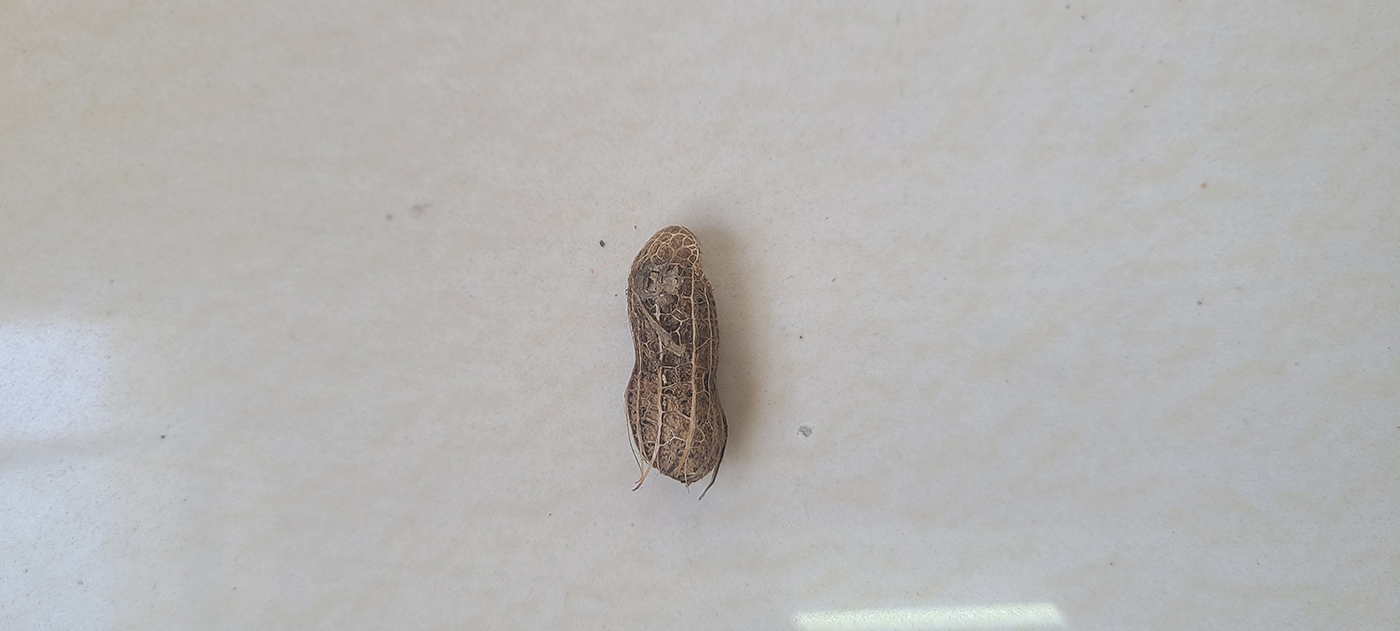l: (618, 224, 733, 484)
